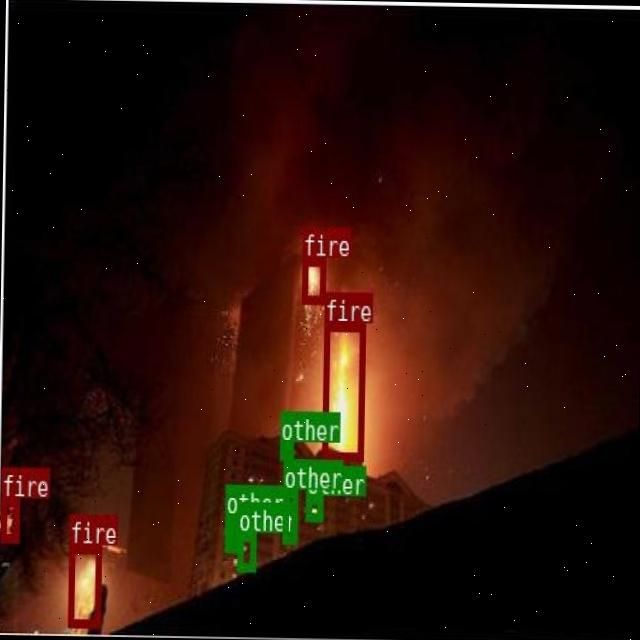fire: (321, 322, 364, 460), (67, 544, 100, 626), (300, 257, 324, 302), (0, 496, 18, 540)
